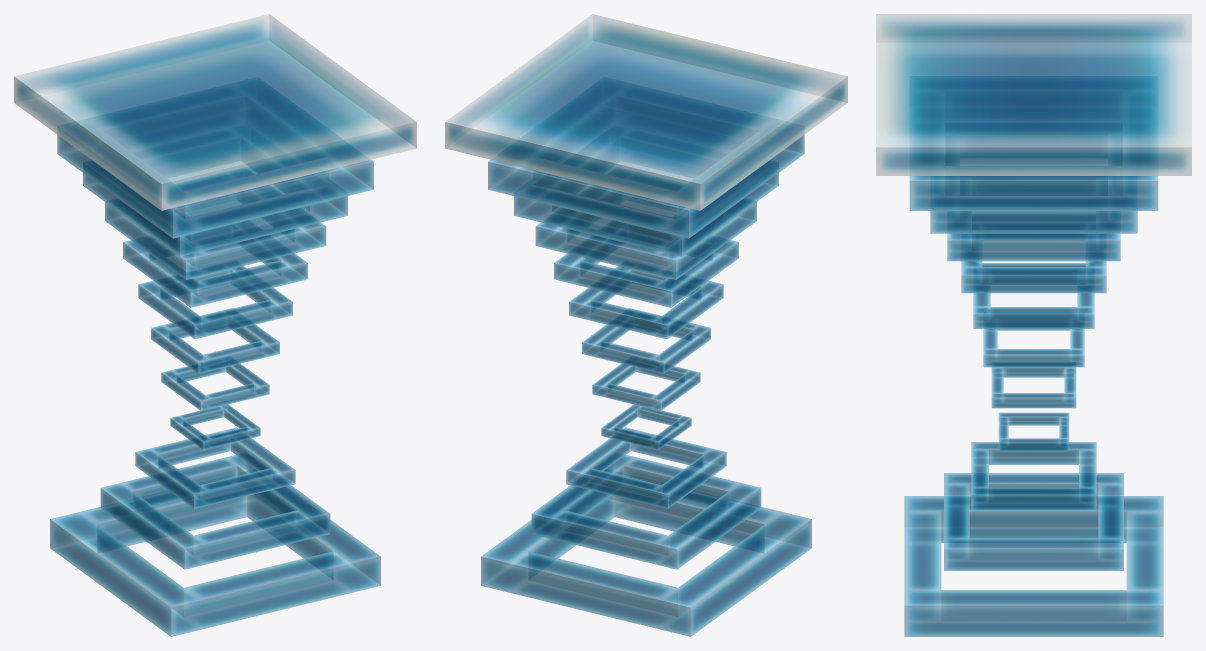
File: desk.FBX
The picture shows the model from 3 angles, left to right: view 1: azimuth 30°, elevation 25°; view 2: azimuth 150°, elevation 25°; view 3: azimuth 270°, elevation 25°; orthographic projection. The views are drawn at different scales.
Parts seen in each view (by area): view 1: Box137, Box134, Box109, Box103, Box133, Box097, Box091, Box136, Box085, Box079, Box073, Box067; view 2: Box137, Box134, Box109, Box103, Box133, Box097, Box091, Box136, Box085, Box079, Box073, Box067; view 3: Box137, Box134, Box109, Box103, Box133, Box097, Box091, Box136, Box085, Box079, Box073, Box067.
Boxes of the visible parts, x1,y1,x2,y2 form: Box137: [14, 14, 416, 210]; Box134: [50, 470, 380, 636]; Box109: [57, 77, 373, 238]; Box103: [83, 124, 347, 256]; Box133: [100, 453, 330, 569]; Box097: [105, 168, 326, 279]; Box091: [123, 220, 307, 307]; Box136: [135, 427, 295, 508]; Box085: [138, 261, 292, 339]; Box079: [151, 308, 279, 373]; Box073: [161, 356, 269, 410]; Box067: [170, 404, 260, 449]; Box137: [445, 14, 847, 210]; Box134: [481, 470, 811, 636]; Box109: [488, 77, 804, 238]; Box103: [514, 124, 778, 256]; Box133: [531, 453, 761, 569]; Box097: [535, 168, 756, 279]; Box091: [554, 220, 738, 307]; Box136: [566, 427, 726, 508]; Box085: [569, 261, 723, 339]; Box079: [582, 308, 710, 373]; Box073: [592, 356, 700, 410]; Box067: [601, 404, 691, 449]; Box137: [876, 14, 1191, 175]; Box134: [904, 496, 1163, 636]; Box109: [909, 76, 1158, 210]; Box103: [930, 121, 1137, 233]; Box133: [944, 473, 1123, 570]; Box097: [947, 176, 1120, 261]; Box091: [961, 215, 1106, 293]; Box136: [971, 442, 1096, 510]; Box085: [973, 263, 1094, 328]; Box079: [983, 313, 1084, 367]; Box073: [991, 363, 1076, 408]; Box067: [998, 412, 1069, 451].
Bounding box in the file's own units: 377 × 660 × 377.
